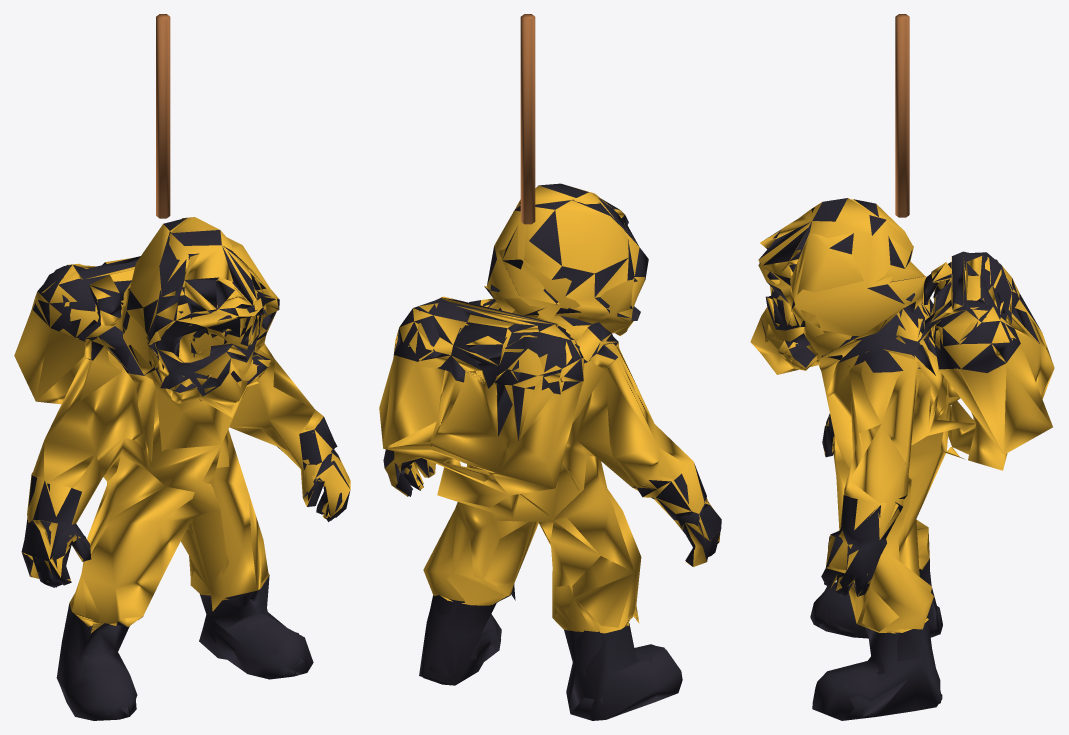
The picture shows the model from 3 angles, left to right: view 1: azimuth 30°, elevation 25°; view 2: azimuth 150°, elevation 25°; view 3: azimuth 270°, elevation 25°; orthographic projection. The views are drawn at different scales.
Parts seen in each view (by area): view 1: swing; view 2: swing; view 3: swing.
Part boxes in pixels (box(x1,y1,x2,y2)): swing: box(14, 14, 350, 720); swing: box(379, 14, 721, 720); swing: box(750, 14, 1054, 720).
Size of the model in its own units: 1.3 by 2.55 by 1.08.
